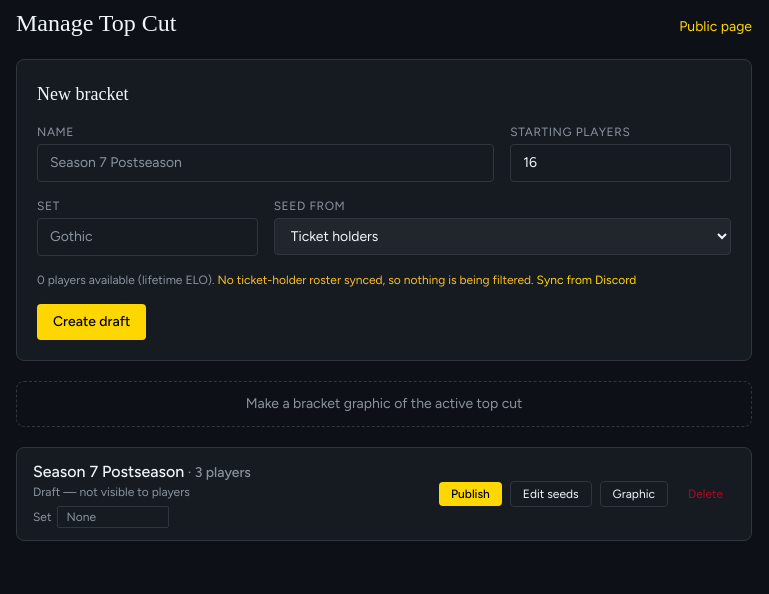
Test case: BracketsAdmin › warns and offers a sync when no ticket roster exists
This screenshot has width=769, height=594.
Expected: the text "No ticket-holder roster synced" is shown, [218, 273, 534, 287]
Click the button "Sync from Discord": point(586, 280) [537, 272, 636, 288]
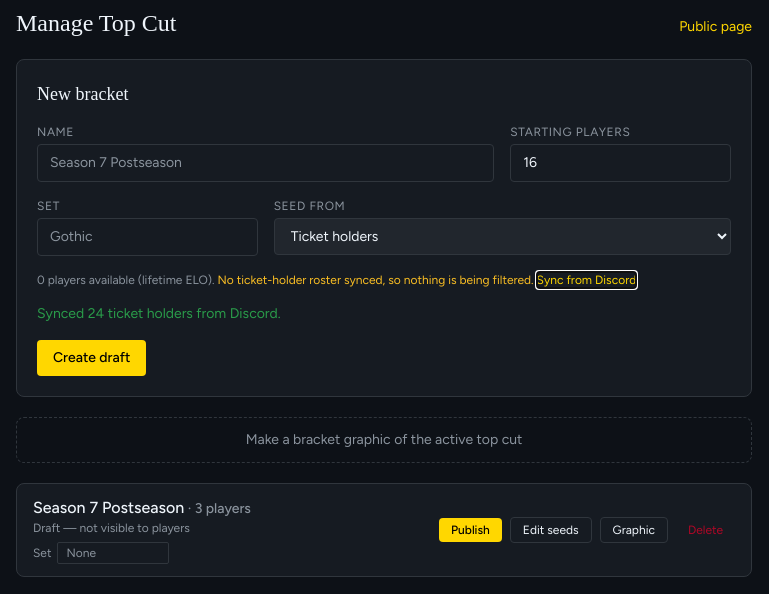
Expected: the text "Synced 24 ticket holders from Discord." is shown, [37, 305, 281, 322]
